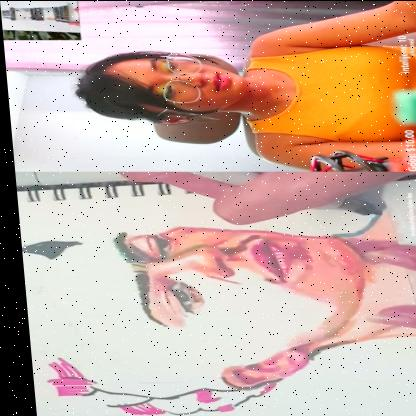streamer: (66, 0, 416, 171)
